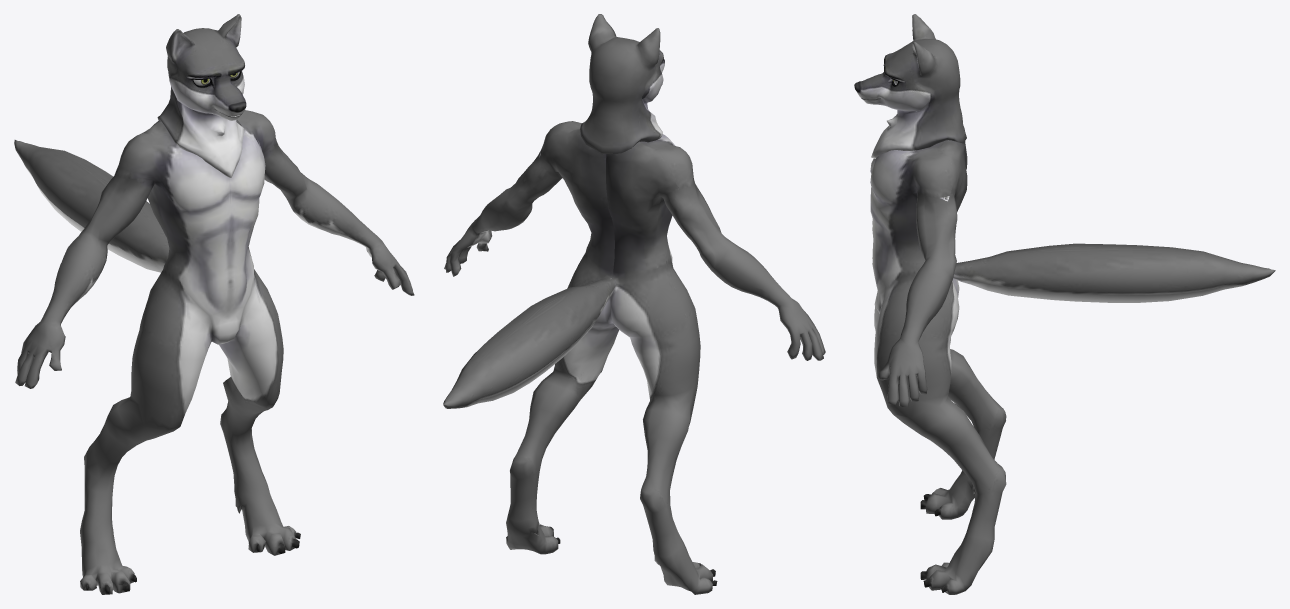
File: WolfDraco.gltf
3 views of the same model, side by side, from view 1: azimuth 30°, elevation 25°; view 2: azimuth 150°, elevation 25°; view 3: azimuth 270°, elevation 25° (orthographic). The views are drawn at different scales.
Parts seen in each view (by area): view 1: Body_Combined, Head_Combined; view 2: Body_Combined, Head_Combined; view 3: Body_Combined, Head_Combined.
Boxes of the visible parts, x1=… form: Body_Combined: x1=14, y1=110, x2=414, y2=594; Head_Combined: x1=157, y1=14, x2=246, y2=177; Body_Combined: x1=443, y1=121, x2=825, y2=594; Head_Combined: x1=580, y1=14, x2=664, y2=153; Body_Combined: x1=870, y1=126, x2=1275, y2=594; Head_Combined: x1=854, y1=14, x2=966, y2=158.
Bounding box in the file's own units: 99.01 × 134 × 98.35.
2 materials, 2 textured.
